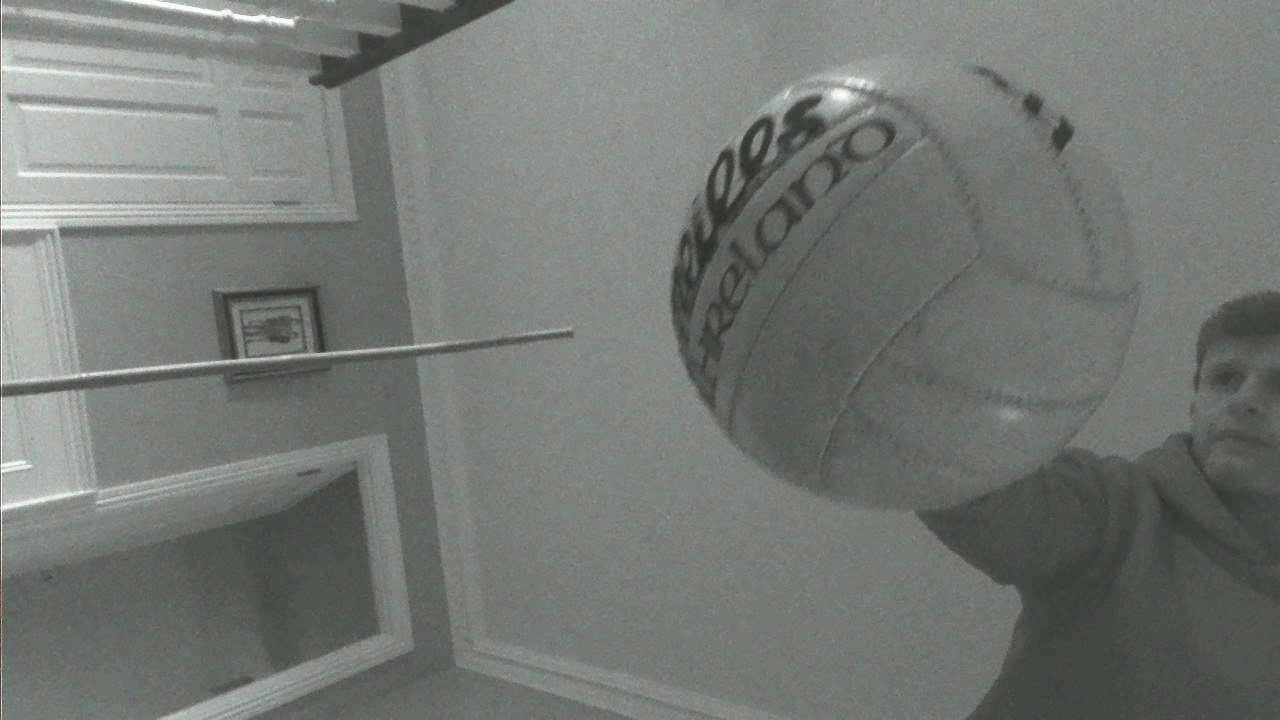Football-Spotter: (671, 60, 1138, 509)
